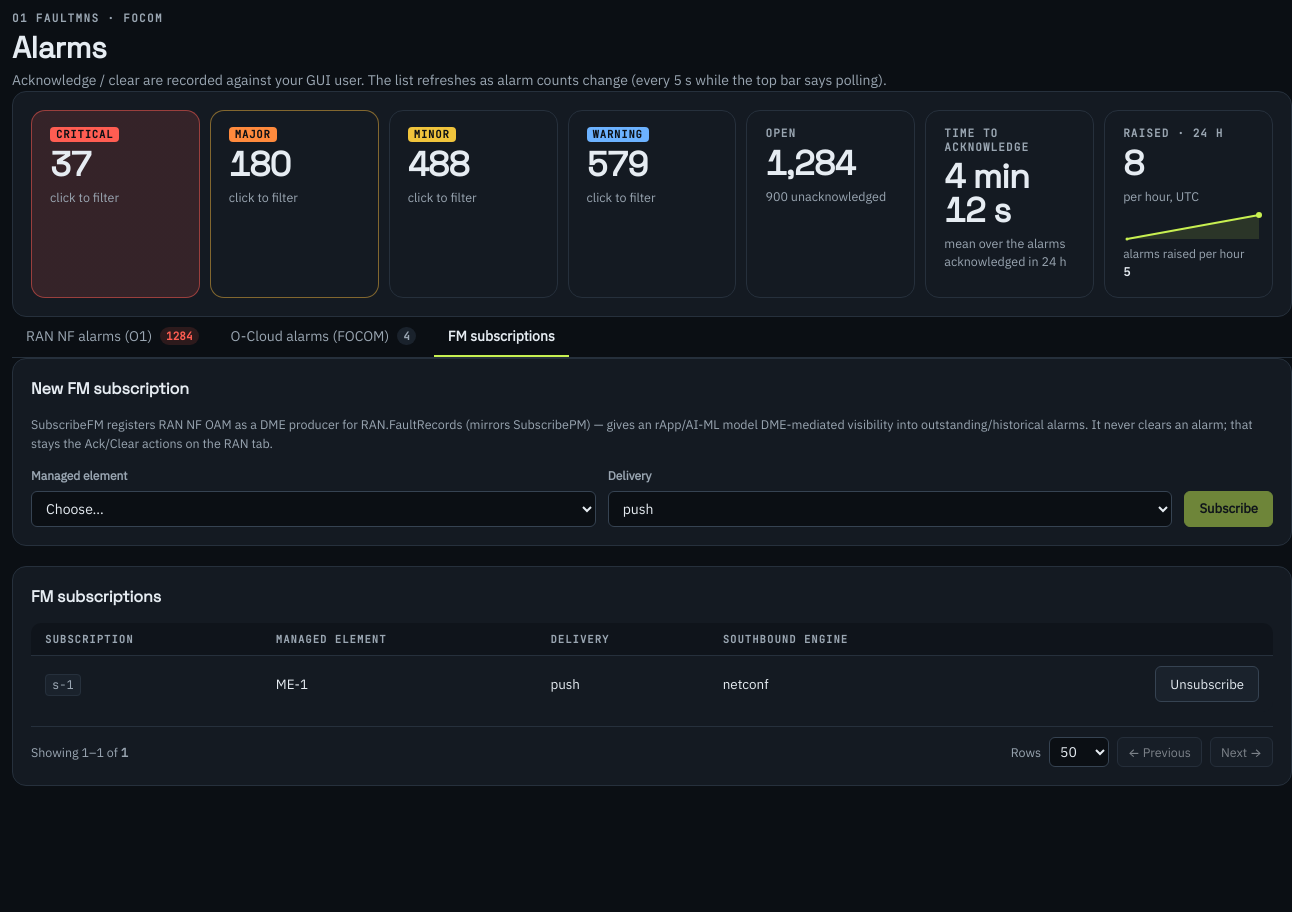
Test: the alarm page › draws the FM subscription form and Unsubscribe for an operator, not for a viewer
Click the button "Unsubscribe": point(1207, 684) [1155, 666, 1259, 702]
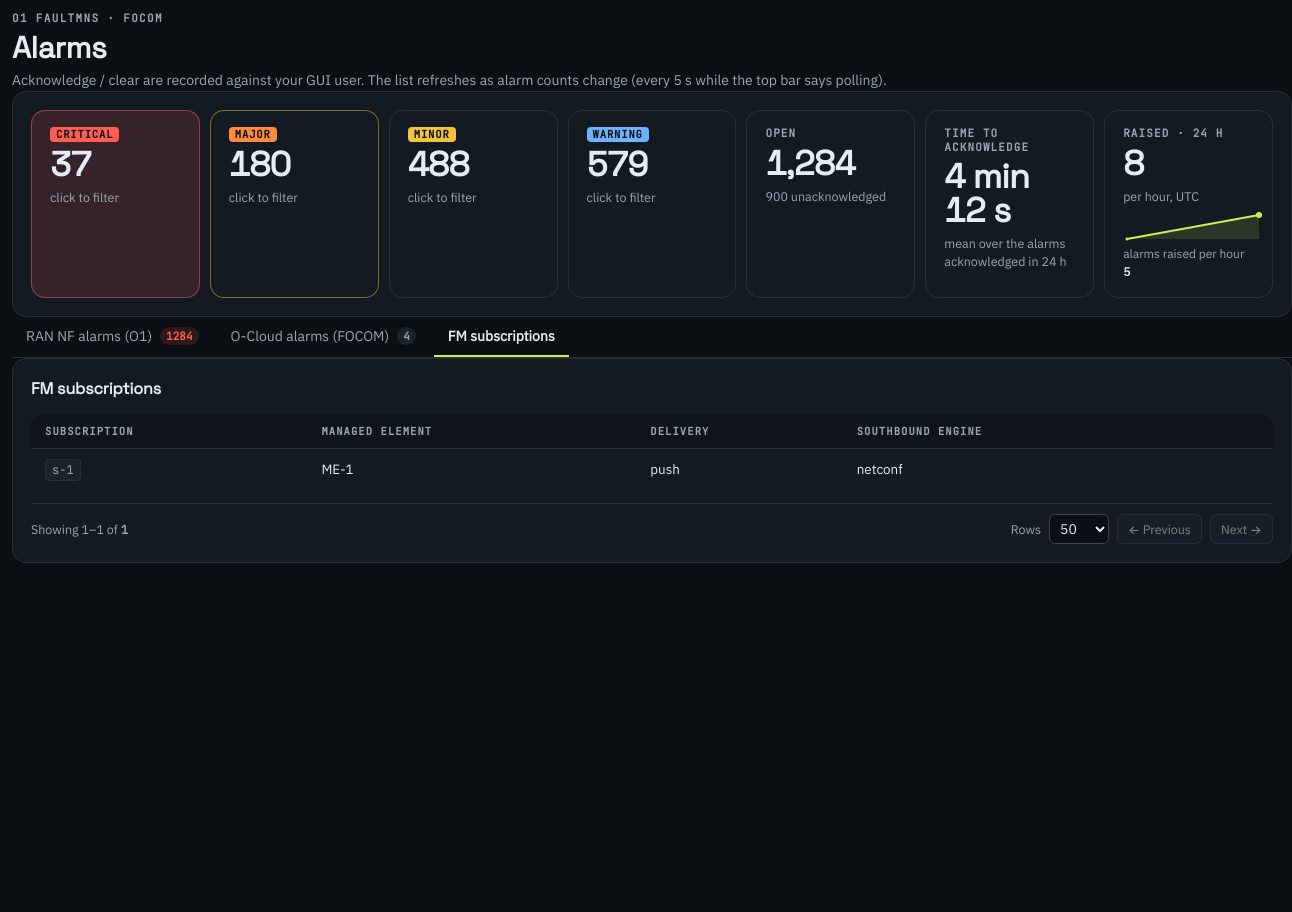
Expected: the text "New FM subscription" is gone
